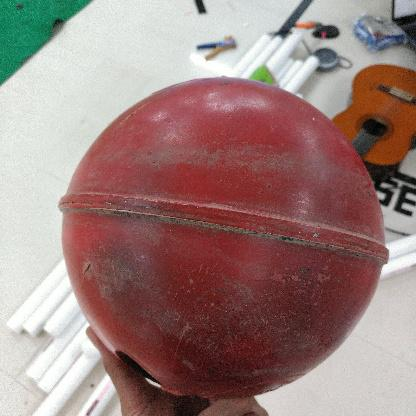red_buoy: (58, 72, 390, 402)
